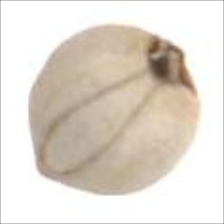L5: (34, 70, 154, 178), (146, 32, 199, 95)
L6: (26, 21, 202, 199)
